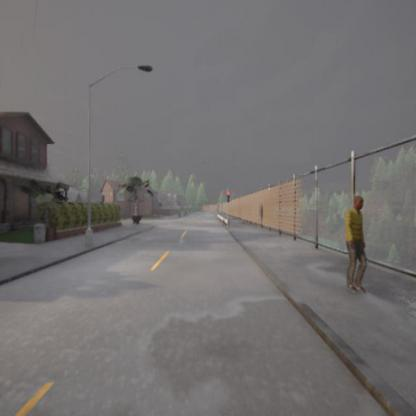person: (343, 195, 367, 292)
